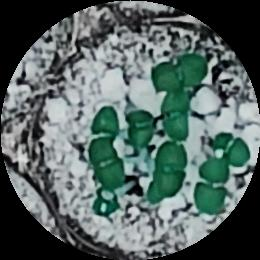Basil: (153, 53, 210, 90), (152, 140, 185, 201), (193, 159, 226, 215), (89, 145, 129, 190), (90, 98, 118, 159), (217, 128, 252, 167), (160, 94, 188, 142), (126, 106, 153, 144)
